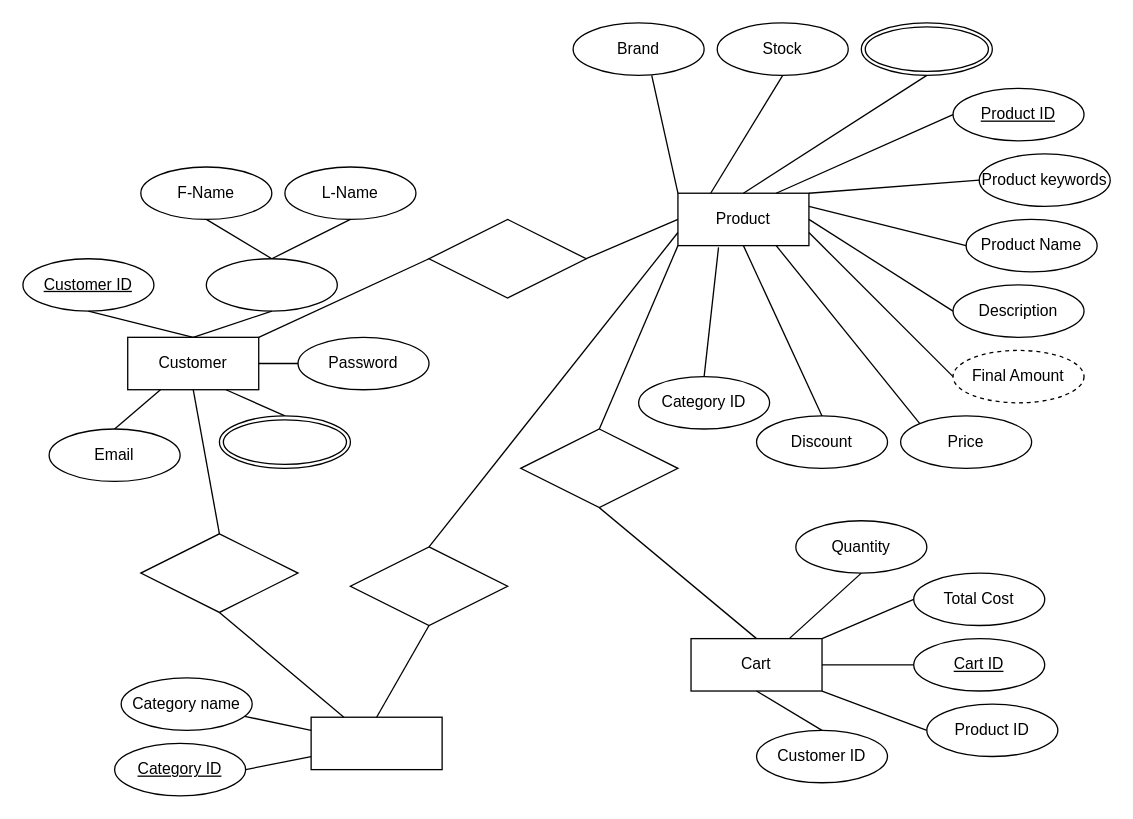
The diagram is 1133 pixels wide and 819 high, and some of its shapes have lost their labels. Here are the shapes that lost their labels. From the top down, the box of each, then its label:
(860, 22, 992, 75): Images
(428, 218, 586, 298): Buys
(205, 257, 337, 311): Name
(218, 415, 350, 468): Address
(519, 428, 678, 508): Is added to
(140, 533, 298, 612): Chooses from
(349, 546, 508, 626): Has
(310, 716, 442, 770): Categories
